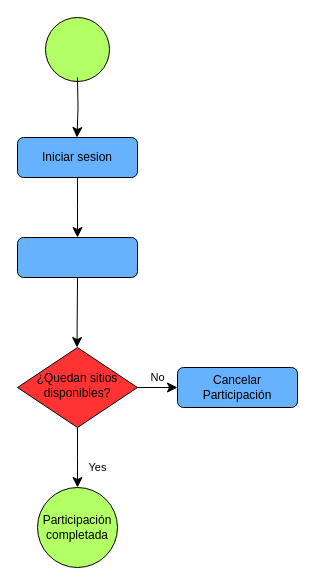
Some shapes in this 315 by 585 pixel diagram are drawn without their labels. The centre of each missing label's shape, as x and y in pixels:
Acceder a participar en donación: (77,257)
Home page: (77,49)
